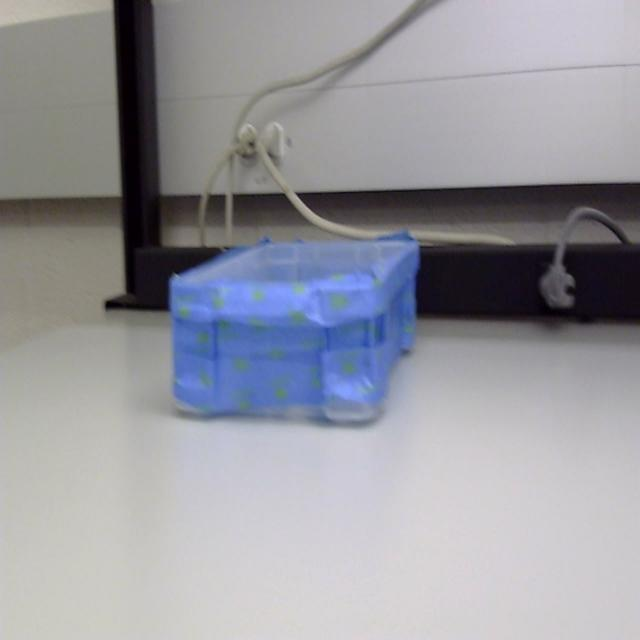bucket: (168, 233, 421, 428)
